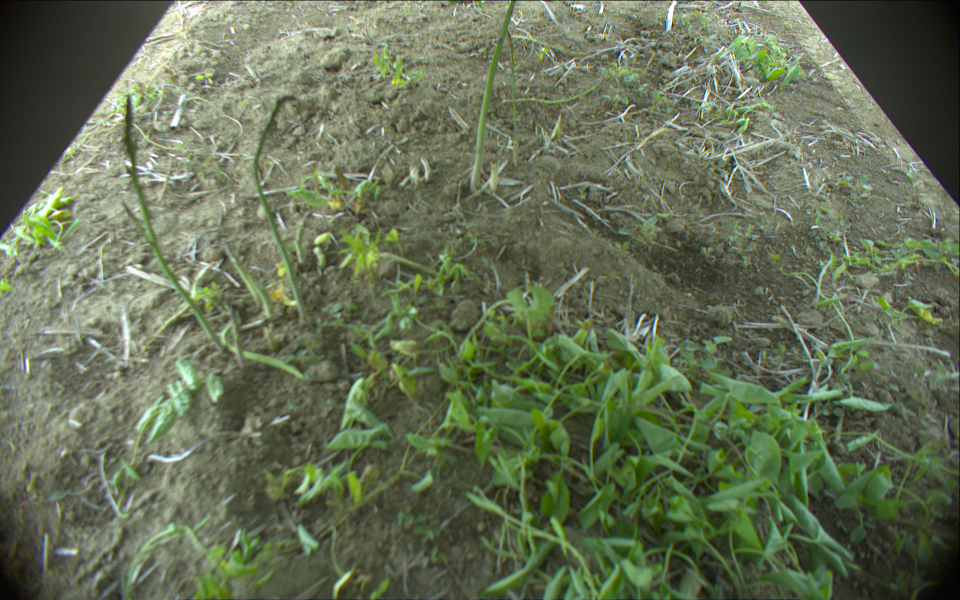aspa: (117, 90, 228, 353), (250, 95, 310, 324), (467, 1, 522, 190), (220, 339, 306, 382), (504, 72, 606, 103), (233, 261, 278, 318), (504, 26, 518, 163), (513, 34, 606, 53), (238, 265, 260, 309), (231, 304, 246, 368), (488, 156, 500, 191)
